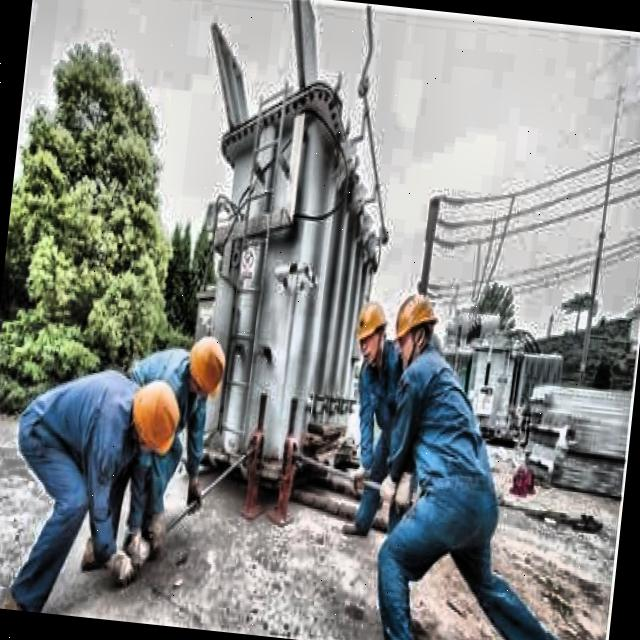helmet: (125, 372, 187, 462), (389, 285, 443, 368), (179, 327, 230, 406), (350, 288, 394, 368)
